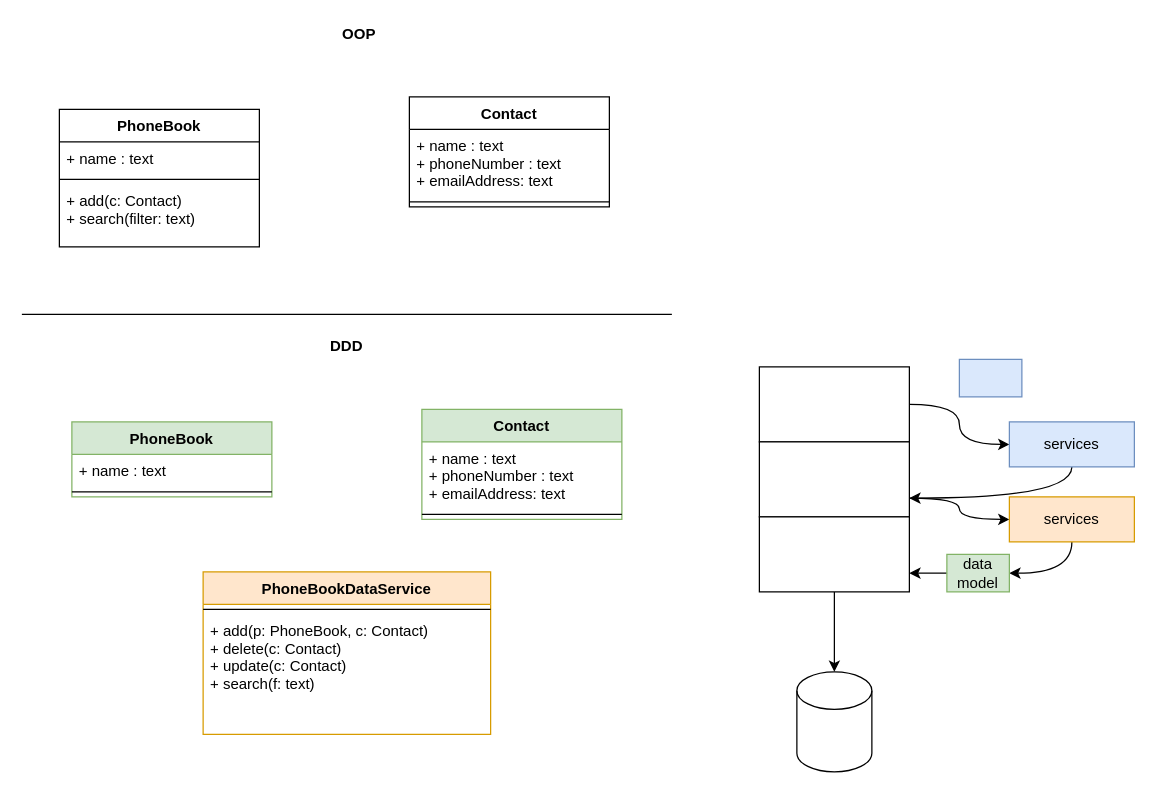
This 1156x794 diagram has some shape labels left out. Each missing label, with the box of its shape:
BL: (758, 441, 909, 517)
DA: (758, 516, 909, 592)
data transport: (958, 358, 1022, 397)
UI: (758, 366, 909, 442)
